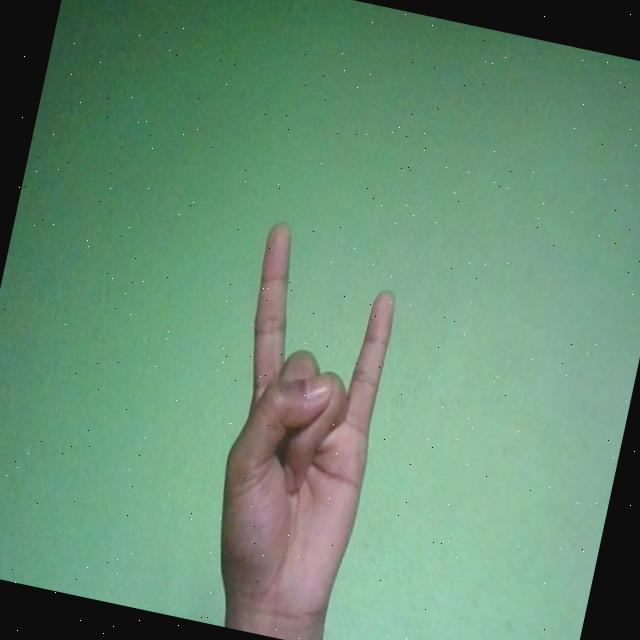open Plam: (187, 218, 413, 640)
